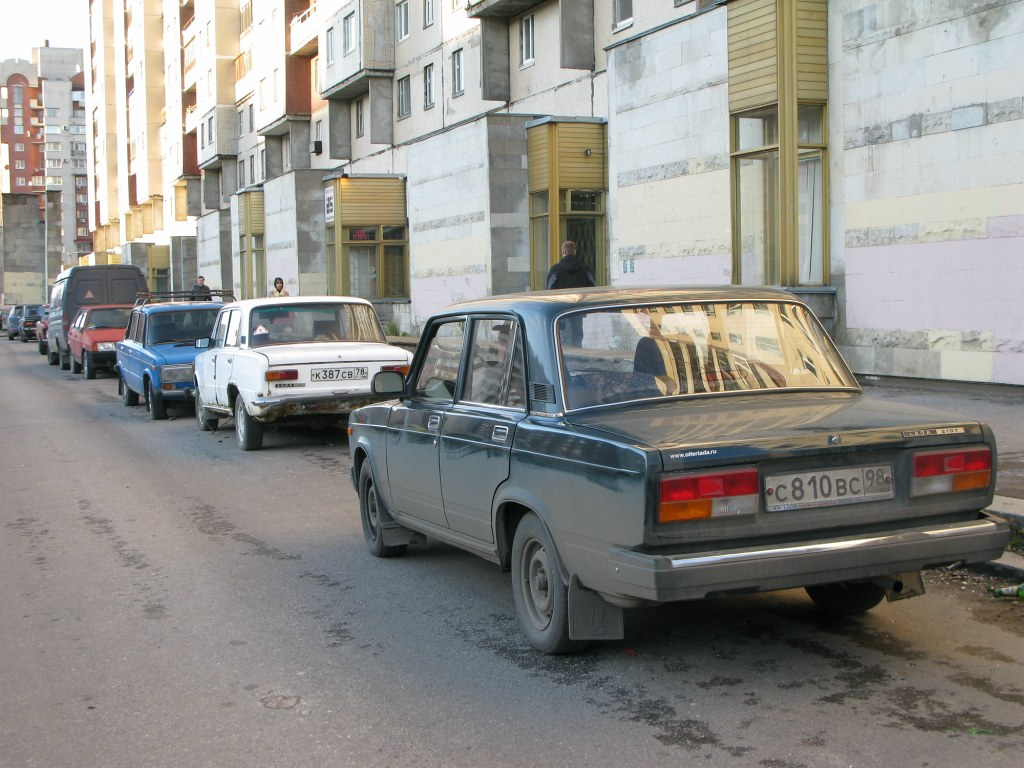car: (642, 423, 1011, 603)
plate: (762, 462, 894, 510)
